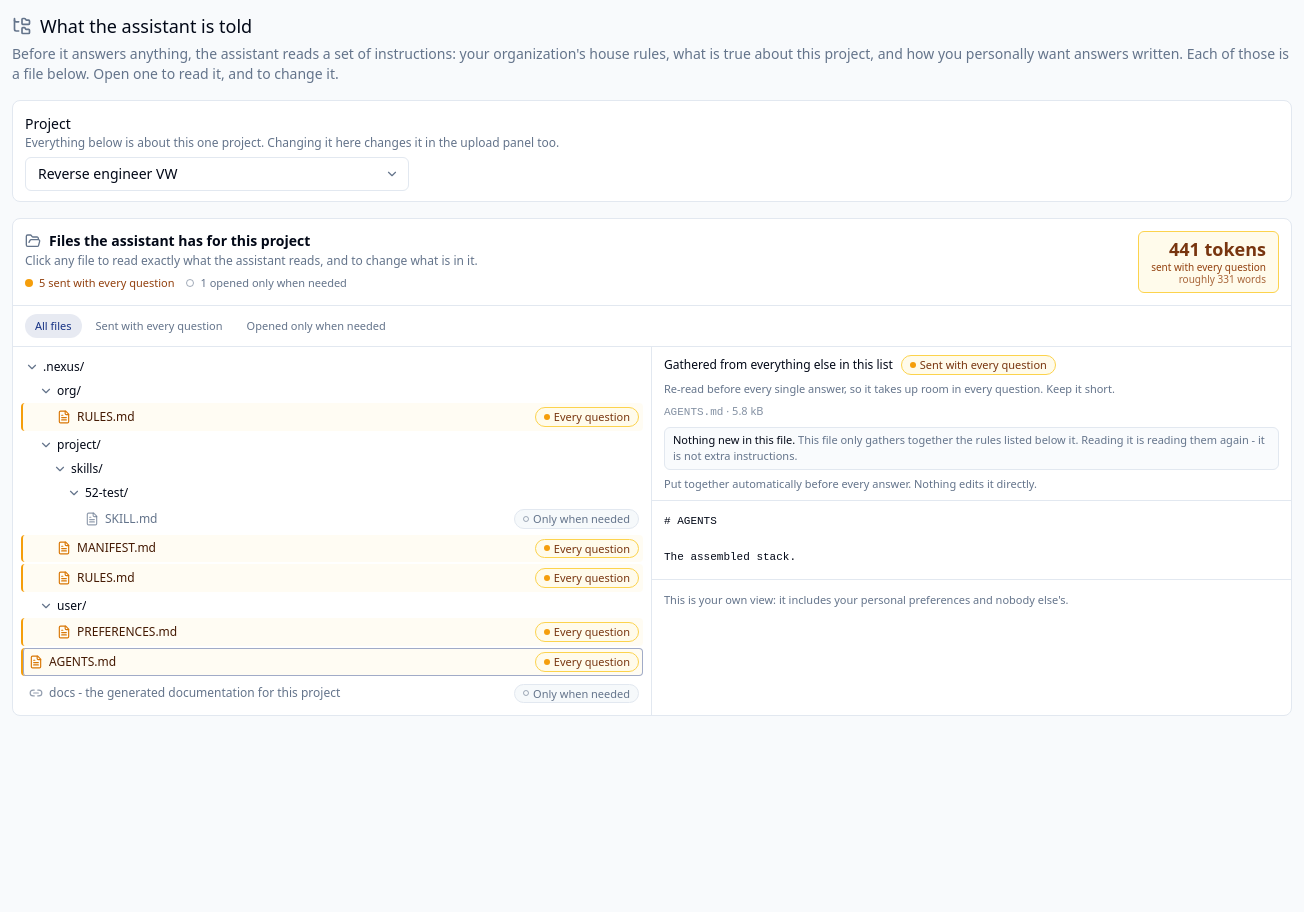
ProjectStructurePanel › offers nothing to edit on a file that nothing edits
The width and height of the screenshot is (1304, 912).
expect the text "# AGENTS The assembled stack." is shown: met, box [664, 515, 796, 563]
expect the text "only gathers together the rules listed below it" is shown: met, box [673, 432, 1265, 463]
Click the button "SKILL.md Only when needed": [131, 518] box [21, 505, 643, 533]
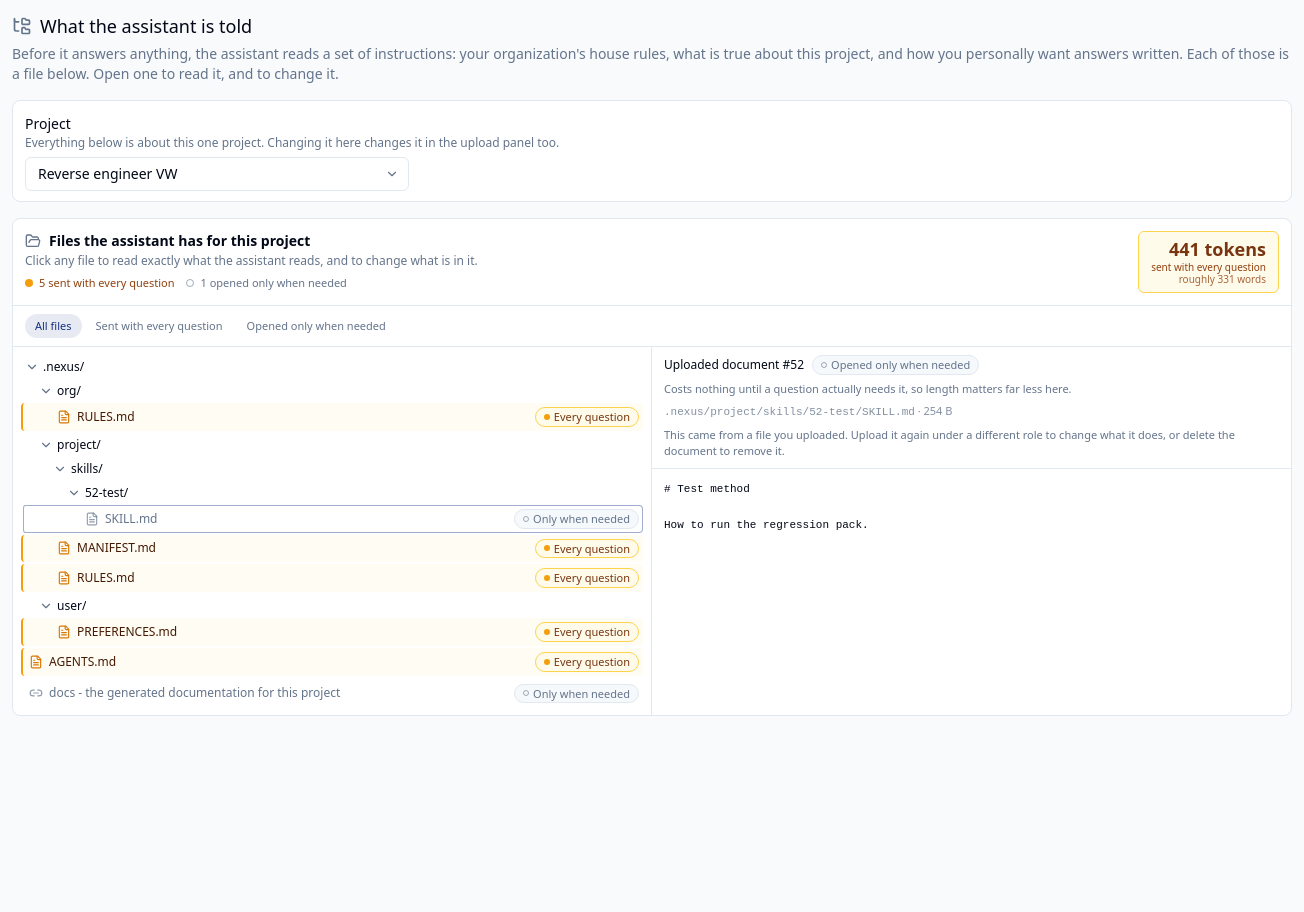
expect the text "Upload it again under a different role" is shown: met, box [664, 427, 1235, 458]
